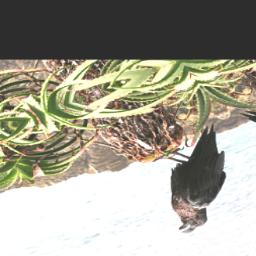Crow: (117, 121, 256, 238)
